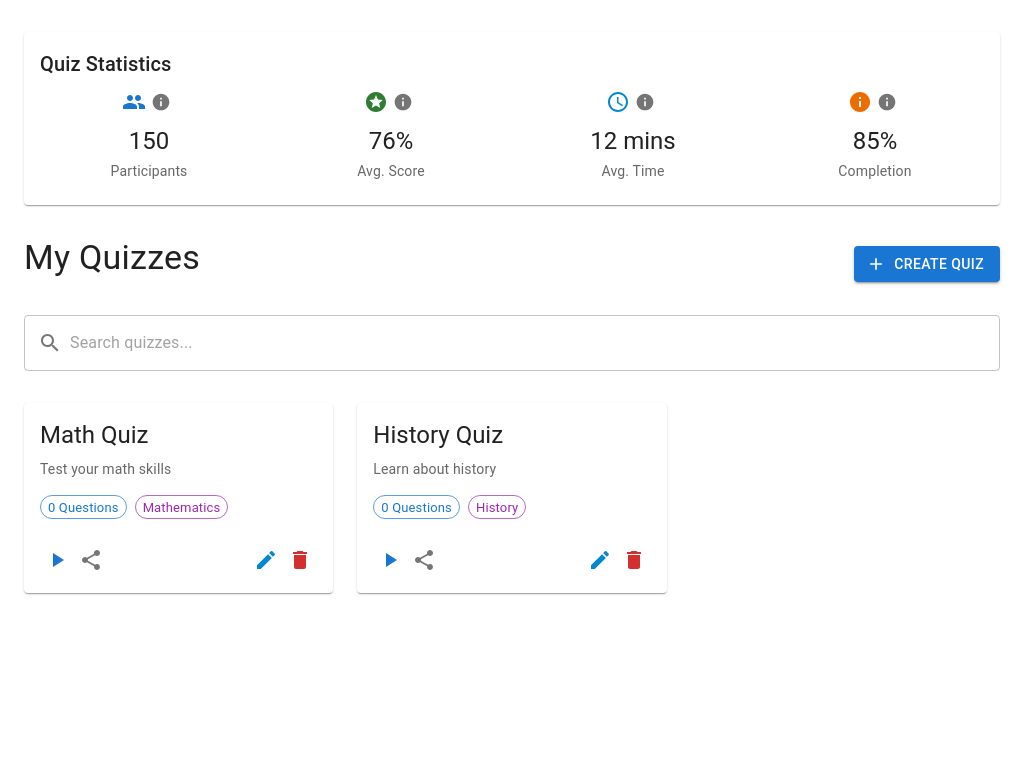
Dashboard Tests › filters quizzes based on search input
The width and height of the screenshot is (1024, 768).
Expected: the heading "Math Quiz" is shown, [40, 421, 148, 449]
In the field with placeholder "Search quizzes...": (535, 343) [70, 315, 1000, 371], type "math"
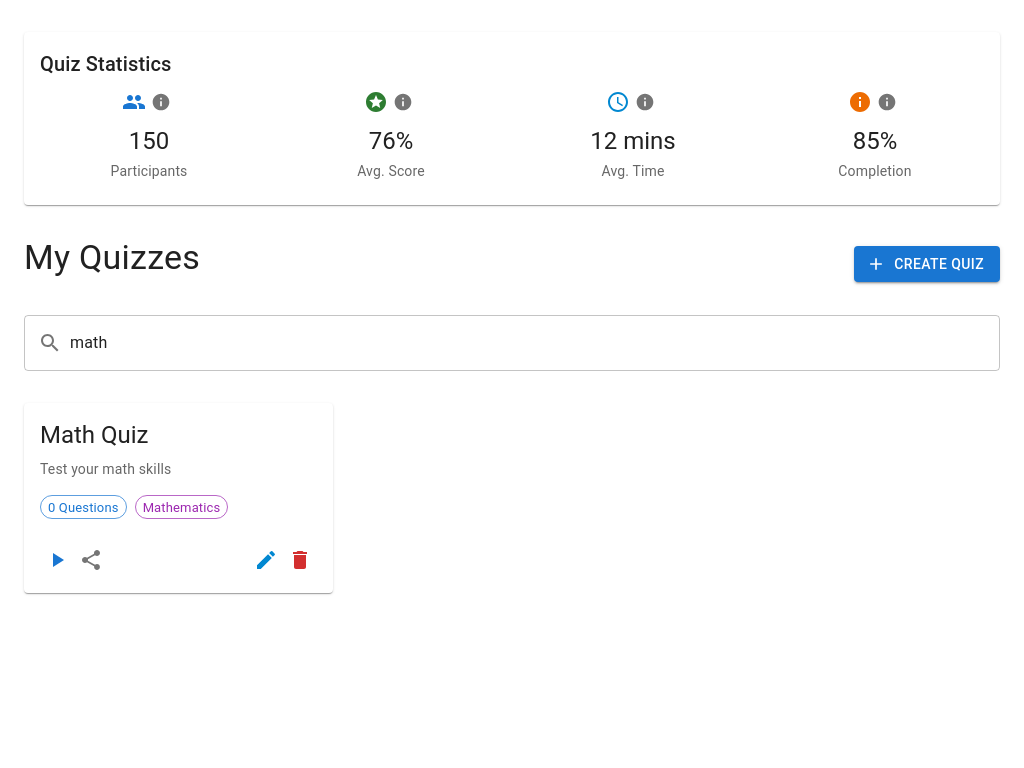
Expected: the heading "Math Quiz" is shown, [40, 421, 148, 449]
Now the heading "History Quiz" is gone
